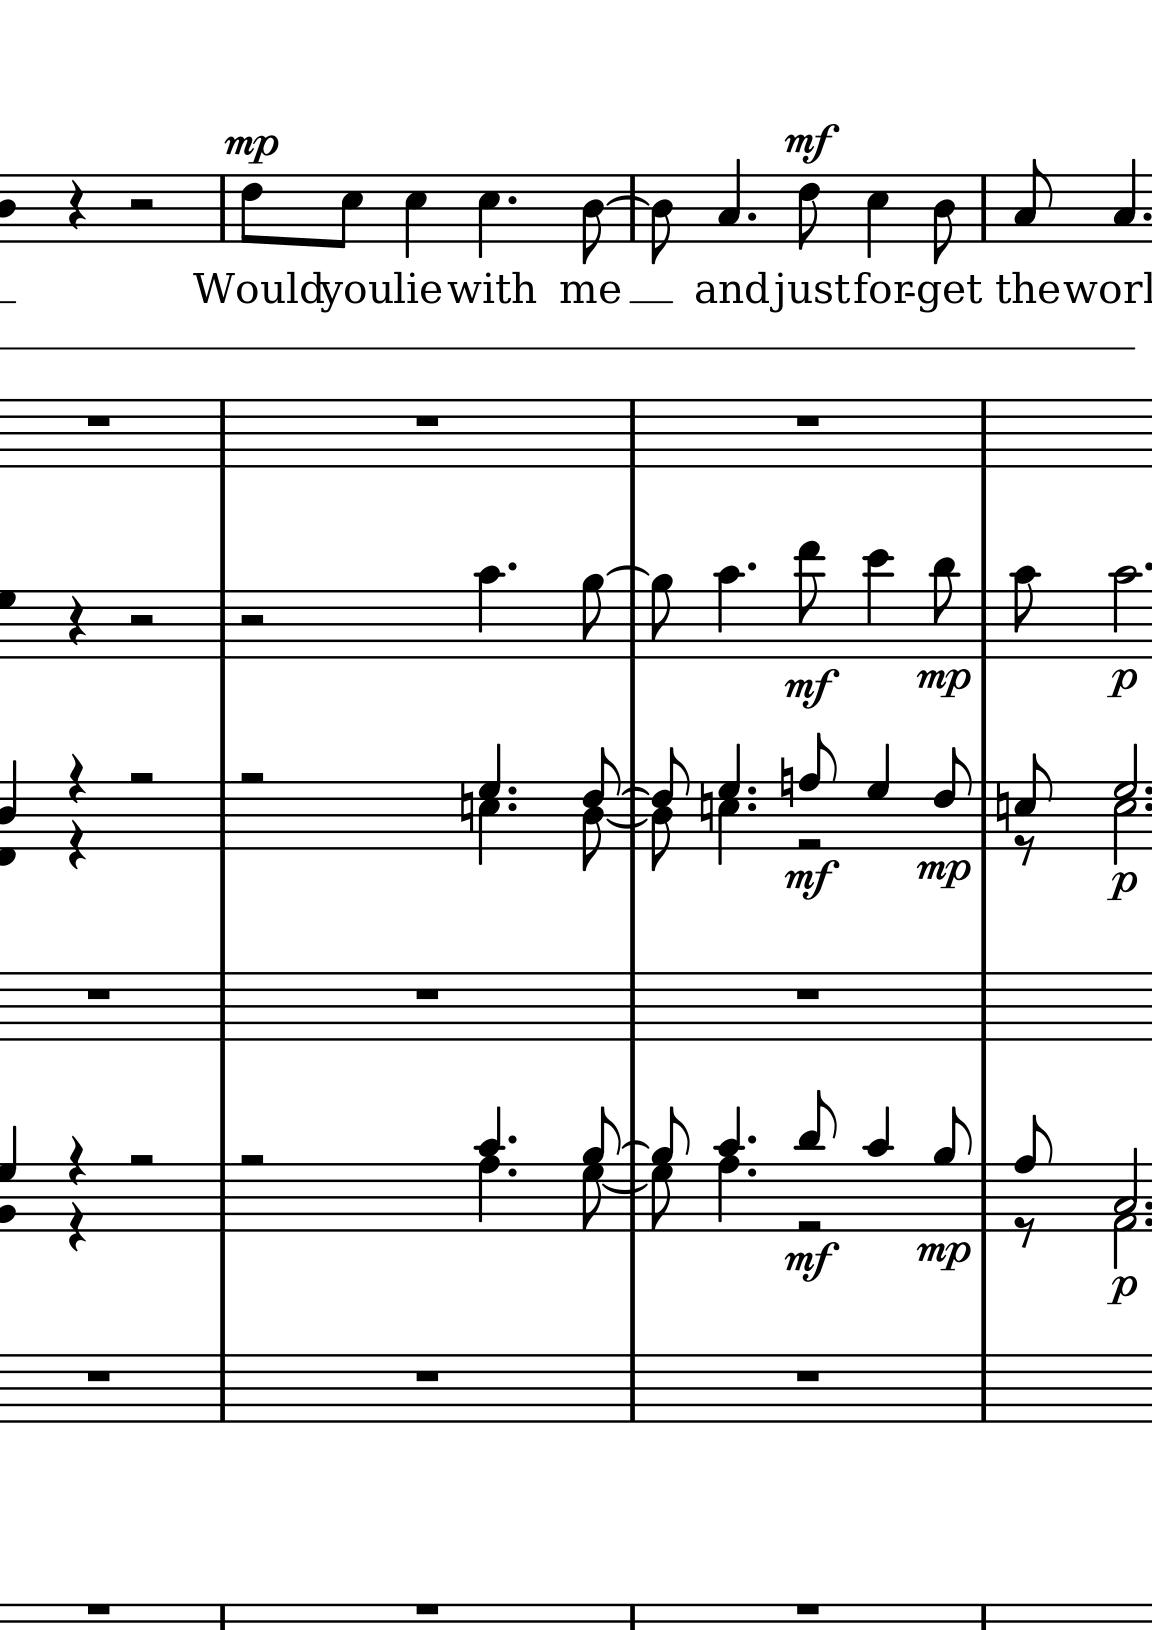2_10: (1110, 565, 1142, 658)
2_1_3: (1111, 1146, 1140, 1272)
2_5_7: (1112, 744, 1140, 862)
4_10: (862, 1103, 893, 1235), (714, 565, 746, 660), (475, 565, 502, 660)
4_12: (863, 550, 894, 664)
4_3: (1111, 158, 1138, 244), (716, 158, 742, 244)
4_5: (865, 172, 890, 260), (403, 173, 428, 260), (476, 173, 501, 260)
4_5_7: (478, 743, 502, 869), (717, 743, 742, 869)
4_7: (864, 740, 891, 852)
4_8_10: (714, 1105, 744, 1234), (475, 1104, 504, 1232)
8_10: (1010, 565, 1041, 660)
8_11: (797, 1089, 838, 1232), (930, 557, 959, 660)
8_13: (794, 540, 825, 660)
8_3: (1012, 158, 1054, 245)
8_4: (930, 172, 956, 265), (578, 172, 603, 265), (648, 173, 673, 265)
8_4_6: (580, 748, 623, 870), (650, 746, 691, 870)
8_5: (1012, 753, 1054, 852), (330, 173, 364, 252)
8_6: (933, 745, 972, 851), (795, 173, 820, 253), (238, 173, 264, 247)
8_7_9: (650, 1103, 689, 1232), (581, 1105, 621, 1234)
8_8: (798, 732, 837, 855), (1011, 1117, 1051, 1229)
8_9: (933, 1107, 975, 1232), (580, 574, 605, 662), (650, 574, 674, 660)
Natural: (458, 781, 475, 835), (697, 783, 714, 836), (778, 755, 795, 809), (994, 780, 1011, 832)
Rests1: (80, 1599, 115, 1619), (790, 1599, 824, 1619), (790, 984, 823, 1003), (790, 1366, 823, 1385), (410, 1600, 443, 1619), (82, 984, 113, 1003), (411, 984, 443, 1003), (411, 1366, 443, 1385), (84, 412, 113, 431), (411, 412, 443, 430), (792, 412, 823, 430), (82, 1367, 113, 1385)
Rests2: (123, 196, 158, 216), (123, 611, 158, 631), (236, 609, 268, 631), (125, 766, 157, 788), (236, 766, 268, 788), (236, 1150, 268, 1170), (794, 1214, 824, 1235), (794, 835, 825, 855), (125, 1150, 157, 1169)
Rests4: (65, 819, 86, 874), (66, 751, 87, 806), (66, 178, 87, 232), (66, 594, 86, 648), (66, 1134, 86, 1188), (66, 1201, 86, 1255)
Rests8: (1011, 832, 1039, 867), (1011, 1214, 1039, 1249)
Single_barline: (208, 589, 236, 659), (209, 971, 236, 1041), (618, 971, 645, 1041), (621, 1161, 646, 1232), (209, 783, 236, 850), (209, 1161, 234, 1231), (209, 174, 234, 243), (620, 399, 645, 467), (209, 400, 234, 469), (209, 1355, 233, 1422), (622, 589, 645, 658), (972, 972, 995, 1041), (972, 400, 995, 467), (621, 1355, 643, 1422), (972, 589, 994, 658), (972, 1355, 994, 1423), (972, 174, 992, 242), (972, 781, 992, 849), (972, 1164, 992, 1230)
Slur: (601, 1183, 650, 1196), (607, 194, 648, 208), (606, 816, 650, 829), (607, 565, 650, 577), (620, 784, 648, 798), (618, 1140, 651, 1151)
dot: (502, 193, 519, 208), (504, 783, 520, 798), (504, 800, 520, 815), (504, 560, 519, 574), (744, 560, 758, 574), (504, 1133, 519, 1146), (744, 1133, 759, 1146), (504, 1165, 519, 1179), (744, 209, 758, 223), (744, 1165, 758, 1179), (1140, 783, 1152, 796), (744, 800, 758, 813), (1140, 211, 1152, 223), (1141, 560, 1152, 573), (1141, 1199, 1152, 1213), (746, 784, 758, 795), (1141, 801, 1152, 813), (1141, 1216, 1152, 1227)
mf: (783, 1240, 840, 1284), (784, 857, 840, 901), (784, 668, 842, 710), (785, 122, 839, 164)
mp: (916, 856, 972, 894), (915, 1237, 972, 1274), (918, 665, 972, 702), (227, 135, 281, 166)
p: (1106, 1270, 1140, 1311), (1106, 869, 1140, 907), (1106, 665, 1138, 702)
